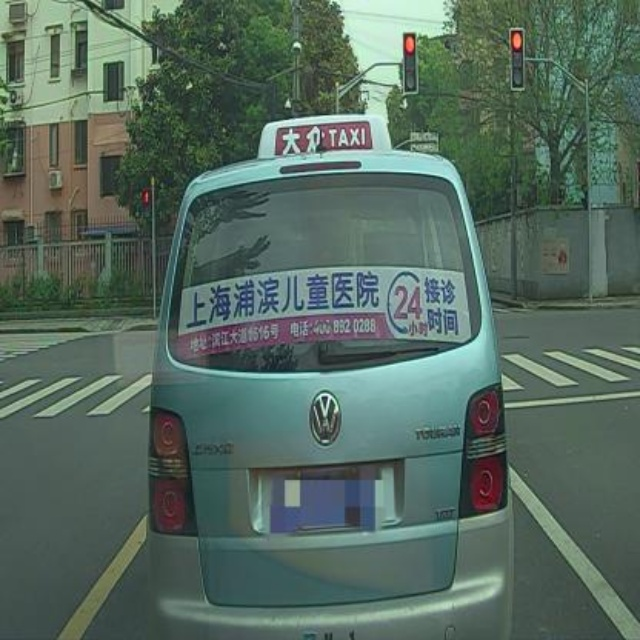Đèn đỏ: (402, 30, 418, 93), (510, 25, 525, 90)
